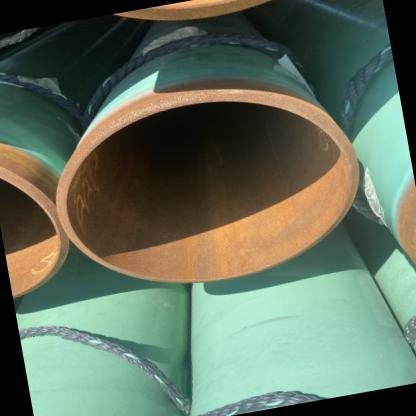clean: (162, 78, 210, 126)
